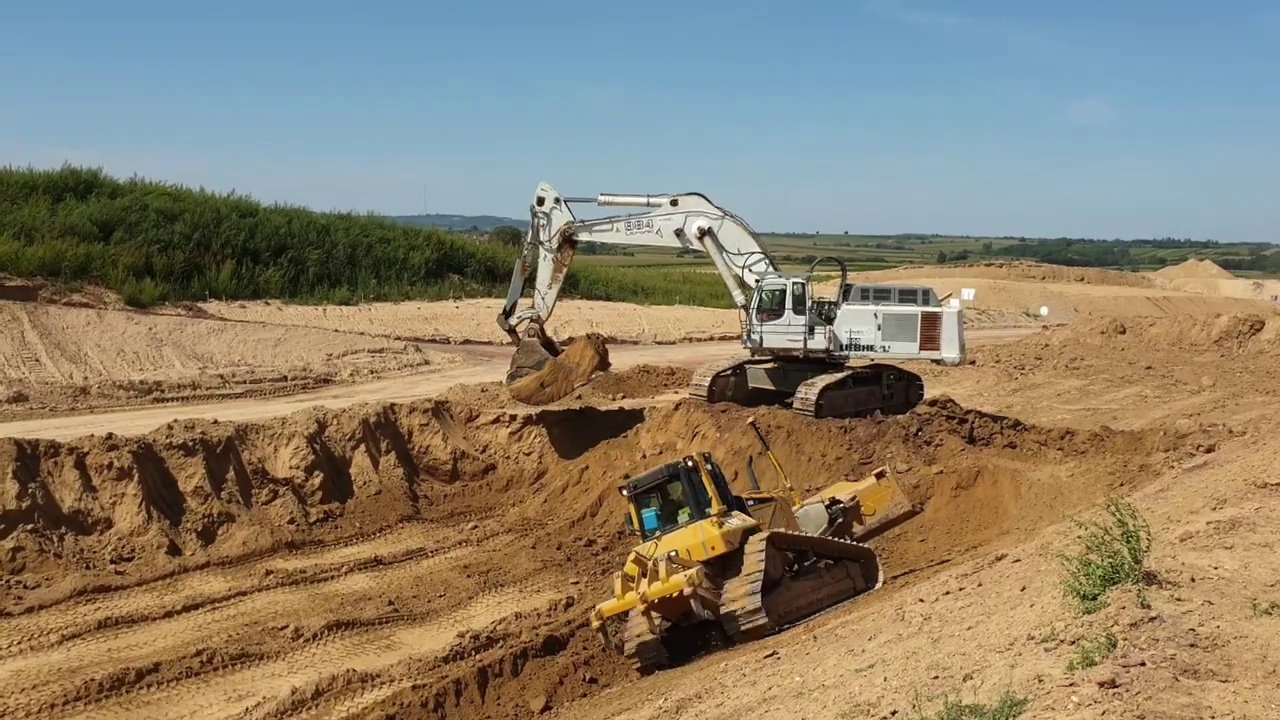bulldozer: (584, 412, 926, 678)
excavator: (490, 175, 976, 423)
